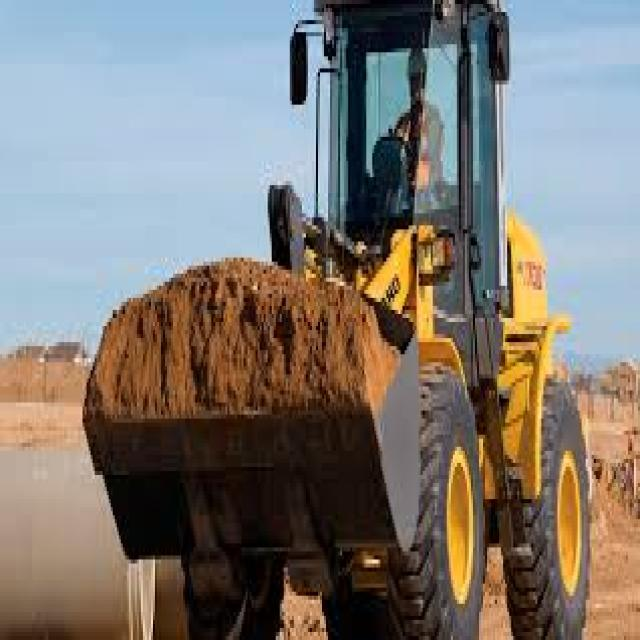buldozerpayloadergrader: (93, 1, 598, 640)
